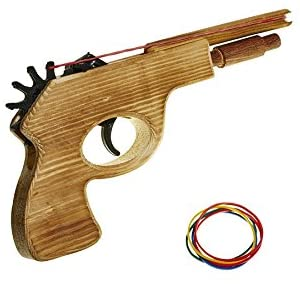Arma Falsa: (4, 8, 299, 262)
